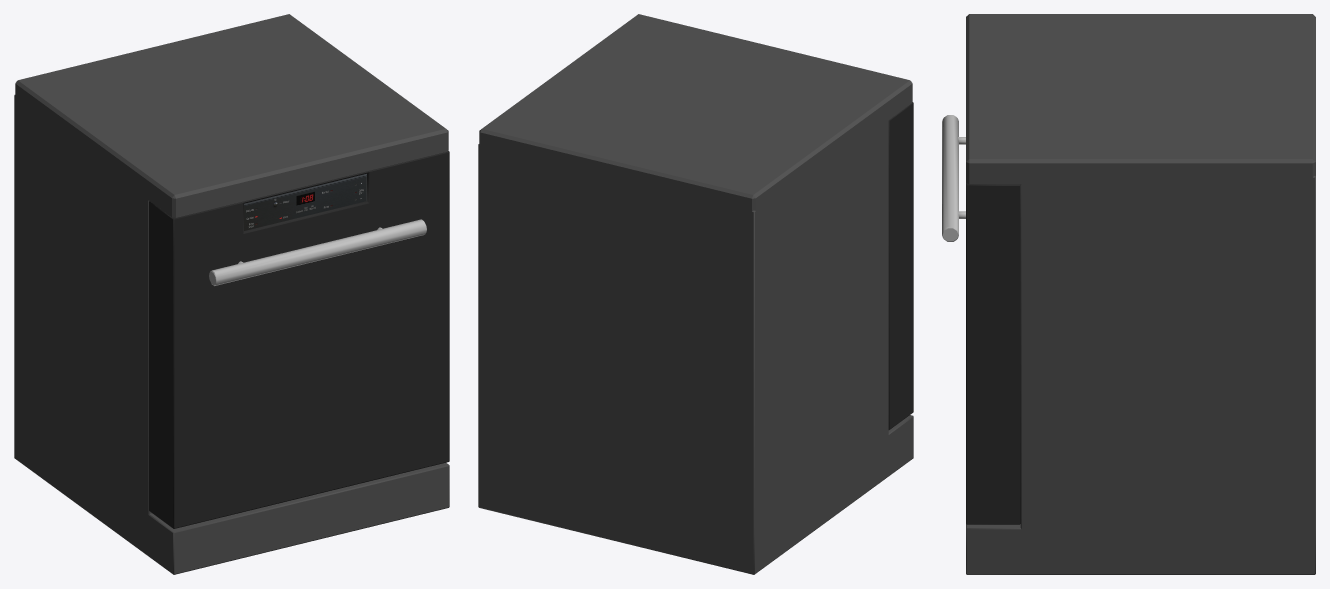
Rendered from Dishwasher.fbx.
3 views of the same model, side by side, from view 1: azimuth 30°, elevation 25°; view 2: azimuth 150°, elevation 25°; view 3: azimuth 270°, elevation 25° (orthographic). The views are drawn at different scales.
Parts seen in each view (by area): view 1: Cube.023; view 2: Cube.023; view 3: Cube.023.
Boxes of the visible parts, bbox=[...] form: Cube.023: bbox=[14, 14, 449, 574]; Cube.023: bbox=[478, 14, 913, 574]; Cube.023: bbox=[942, 14, 1315, 574].
Bounding box in the file's own units: 60 × 78.5 × 64.1.
4 materials, 2 textured.
